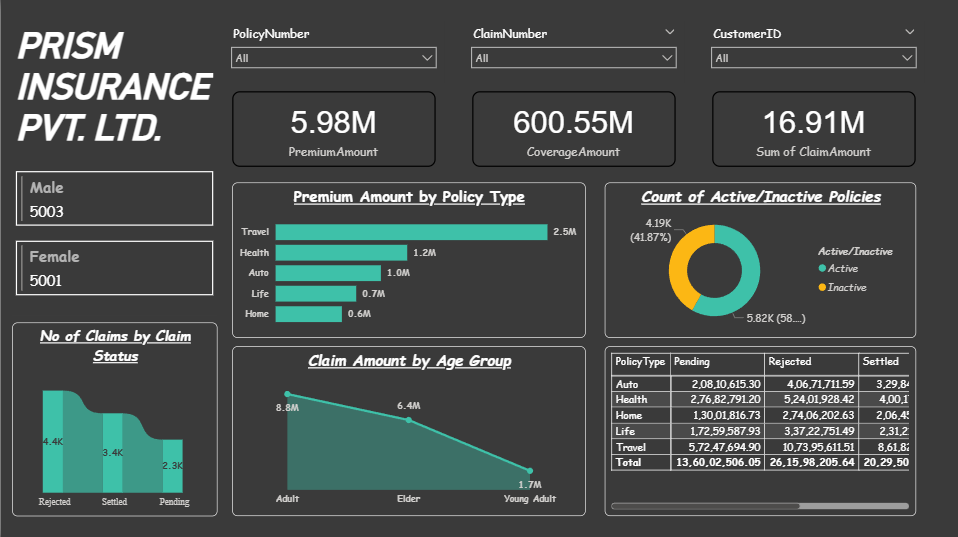

The dashboard page shown, as its layout file describes it:
{"tool":"powerbi","page":{"name":"Page 1","canvas":[1280,720],"ordinal":0},"visuals":[{"type":"slicer","fields":{"Values":["InsuranceData.PolicyNumber"]},"box":[296.5,27.9,294.2,82.6],"z":0},{"type":"slicer","fields":{"Values":["InsuranceData.ClaimNumber"]},"box":[617.4,27.9,294.2,82.6],"z":1},{"type":"slicer","fields":{"Values":["InsuranceData.CustomerID"]},"box":[937.2,27.9,294.2,82.6],"z":2},{"type":"textbox","box":[15.1,27.9,273.3,195.3],"z":3},{"type":"card","fields":{"Values":["Sum(InsuranceData.PremiumAmount)"]},"box":[308.1,122.1,270.9,101.2],"z":4},{"type":"card","fields":{"Values":["Sum(InsuranceData.CoverageAmount)"]},"box":[629.1,122.1,270.9,101.2],"z":5},{"type":"card","fields":{"Values":["Sum(InsuranceData.ClaimAmount)"]},"box":[948.8,122.1,270.9,101.2],"z":6},{"type":"multiRowCard","fields":{"Values":["CountNonNull(InsuranceData.Gender)","InsuranceData.Gender"]},"box":[15.1,223.3,273.3,197.7],"z":7},{"type":"ribbonChart","title":"No of Claims by Claim Status","fields":{"Category":["InsuranceData.ClaimStatus"],"Y":["CountNonNull(InsuranceData.ClaimStatus)"]},"box":[15.1,430.2,273.3,258.1],"z":8},{"type":"barChart","title":"Premium Amount by Policy Type","fields":{"Category":["InsuranceData.PolicyType"],"Y":["Sum(InsuranceData.PremiumAmount)"]},"box":[308.1,243,470.9,207],"z":9},{"type":"lineChart","title":"Claim Amount by Age Group","fields":{"Category":["InsuranceData.Age Group"],"Y":["Sum(InsuranceData.ClaimAmount)"]},"box":[308.1,461.6,470.9,226.7],"z":10},{"type":"donutChart","title":"Count of Active/Inactive Policies","fields":{"Category":["InsuranceData.Active/Inactive"],"Y":["CountNonNull(InsuranceData.Active/Inactive)"]},"box":[804.7,243,415.1,207],"z":11},{"type":"pivotTable","fields":{"Values":["Sum(InsuranceData.CoverageAmount)"],"Rows":["InsuranceData.PolicyType"],"Columns":["InsuranceData.ClaimStatus"]},"box":[804.7,461.6,415.1,226.7],"z":12}]}

Visuals, with their boxes in screenshot pixels (x1, y1, x2, y2), scaled from the page's 1280x720 canvas onto the 958x537 screenshot:
slicer - InsuranceData.PolicyNumber: {"x1": 222, "y1": 21, "x2": 442, "y2": 82}
slicer - InsuranceData.ClaimNumber: {"x1": 462, "y1": 21, "x2": 682, "y2": 82}
slicer - InsuranceData.CustomerID: {"x1": 701, "y1": 21, "x2": 922, "y2": 82}
textbox: {"x1": 11, "y1": 21, "x2": 216, "y2": 166}
card - Sum(InsuranceData.PremiumAmount): {"x1": 231, "y1": 91, "x2": 433, "y2": 167}
card - Sum(InsuranceData.CoverageAmount): {"x1": 471, "y1": 91, "x2": 674, "y2": 167}
card - Sum(InsuranceData.ClaimAmount): {"x1": 710, "y1": 91, "x2": 913, "y2": 167}
multiRowCard - CountNonNull(InsuranceData.Gender) x InsuranceData.Gender: {"x1": 11, "y1": 167, "x2": 216, "y2": 314}
"No of Claims by Claim Status" ribbonChart: {"x1": 11, "y1": 321, "x2": 216, "y2": 513}
"Premium Amount by Policy Type" barChart: {"x1": 231, "y1": 181, "x2": 583, "y2": 336}
"Claim Amount by Age Group" lineChart: {"x1": 231, "y1": 344, "x2": 583, "y2": 513}
"Count of Active/Inactive Policies" donutChart: {"x1": 602, "y1": 181, "x2": 913, "y2": 336}
pivotTable - Sum(InsuranceData.CoverageAmount) x InsuranceData.PolicyType: {"x1": 602, "y1": 344, "x2": 913, "y2": 513}
